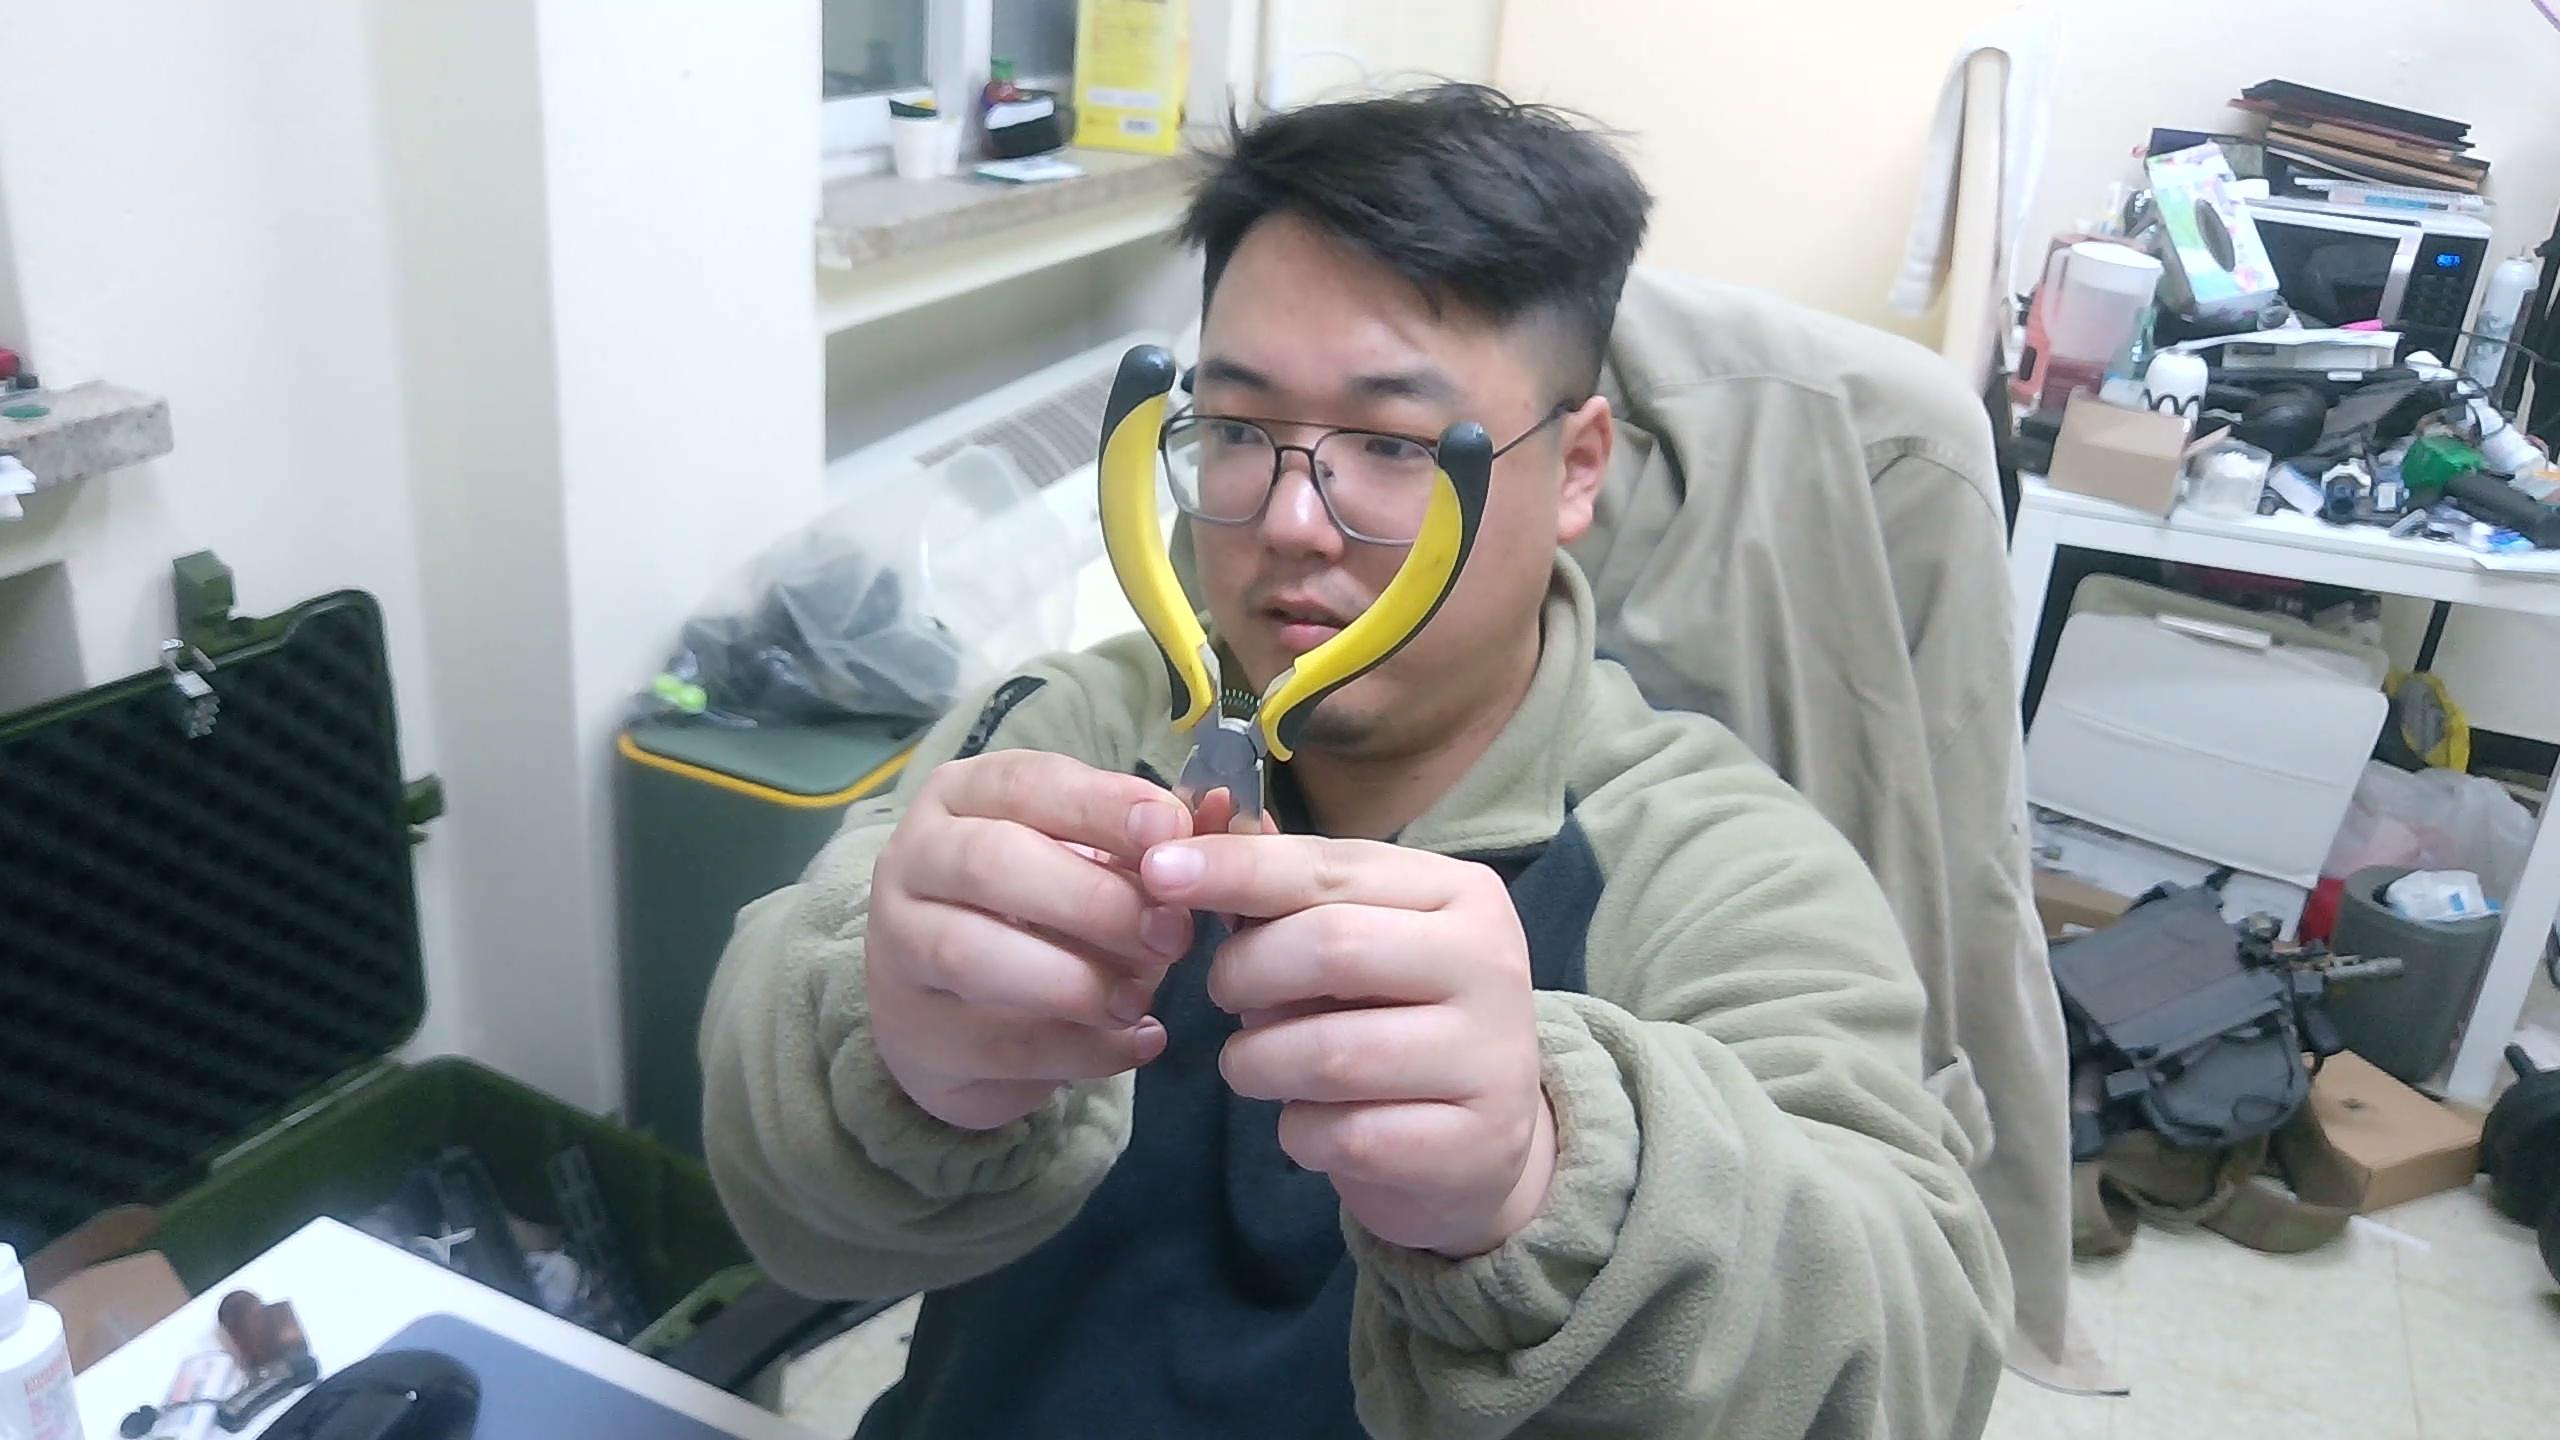earphone: (1094, 341, 1496, 835)
